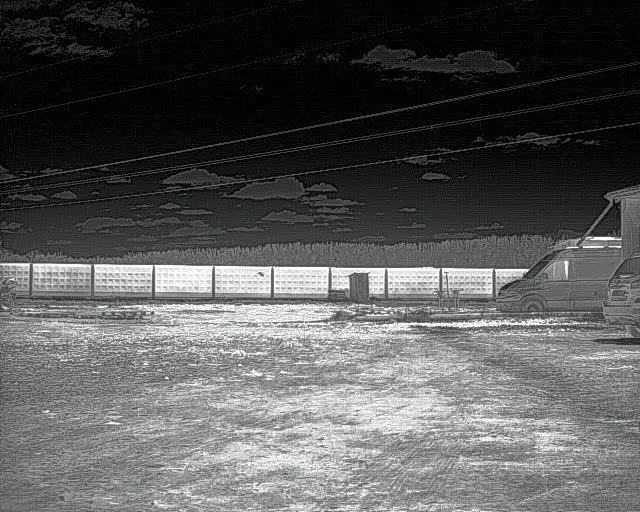ufo-thermal: (256, 269, 267, 278)
